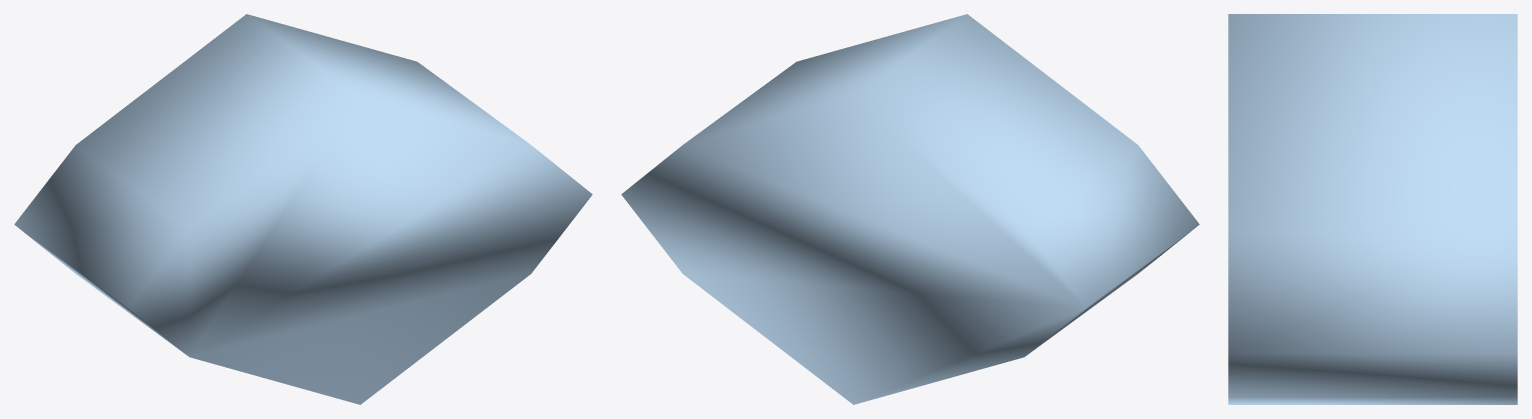
File: topaz.glb
3 views of the same model, side by side, from view 1: azimuth 30°, elevation 25°; view 2: azimuth 150°, elevation 25°; view 3: azimuth 270°, elevation 25° (orthographic). The views are drawn at different scales.
Visible parts, largest first — view 1: topaz; view 2: topaz; view 3: topaz.
Boxes of the visible parts, x1,y1,x2,y2 form: topaz: [14, 14, 592, 404]; topaz: [621, 14, 1199, 404]; topaz: [1228, 14, 1517, 404].
Bounding box in the file's own units: 2.83 × 1.79 × 1.2.
